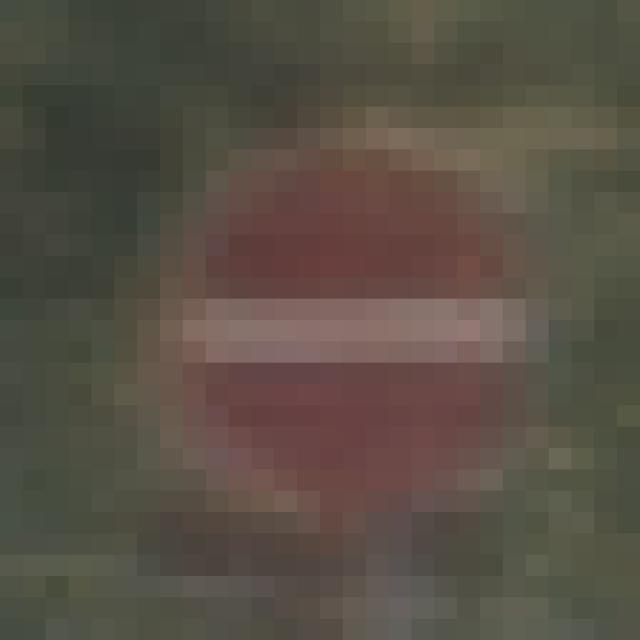No Entry: (138, 129, 527, 534)
